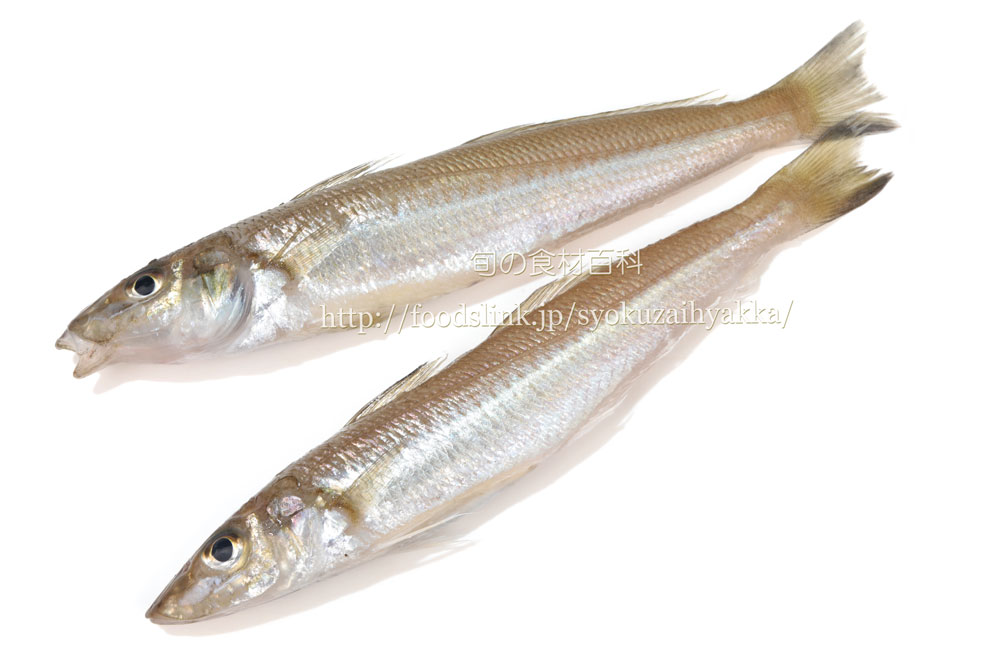kiss: (50, 38, 889, 624)
